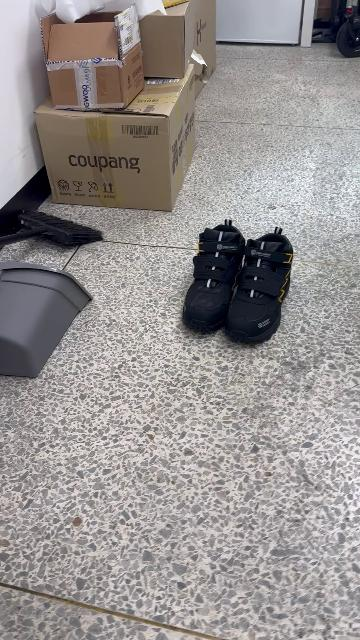shoe_worn: (224, 226, 296, 347), (179, 218, 245, 338)
